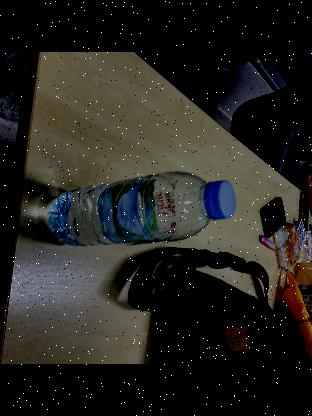Plastic Bottle: (38, 158, 244, 266)
